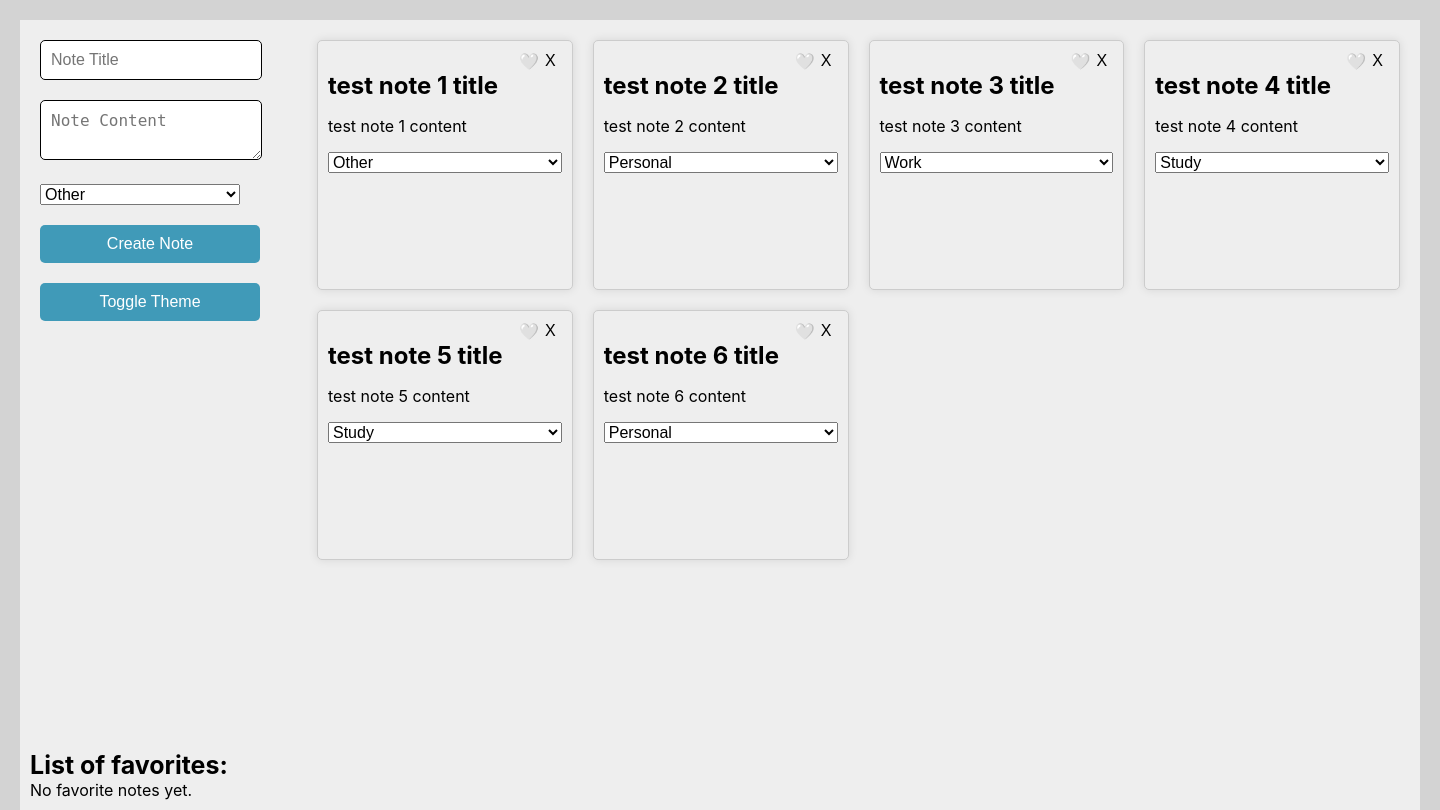
Test: Create StickyNote › displays all created notes
Type "First Note" into the field with placeholder "Note Title" at [151, 60], box [40,40,262,80]
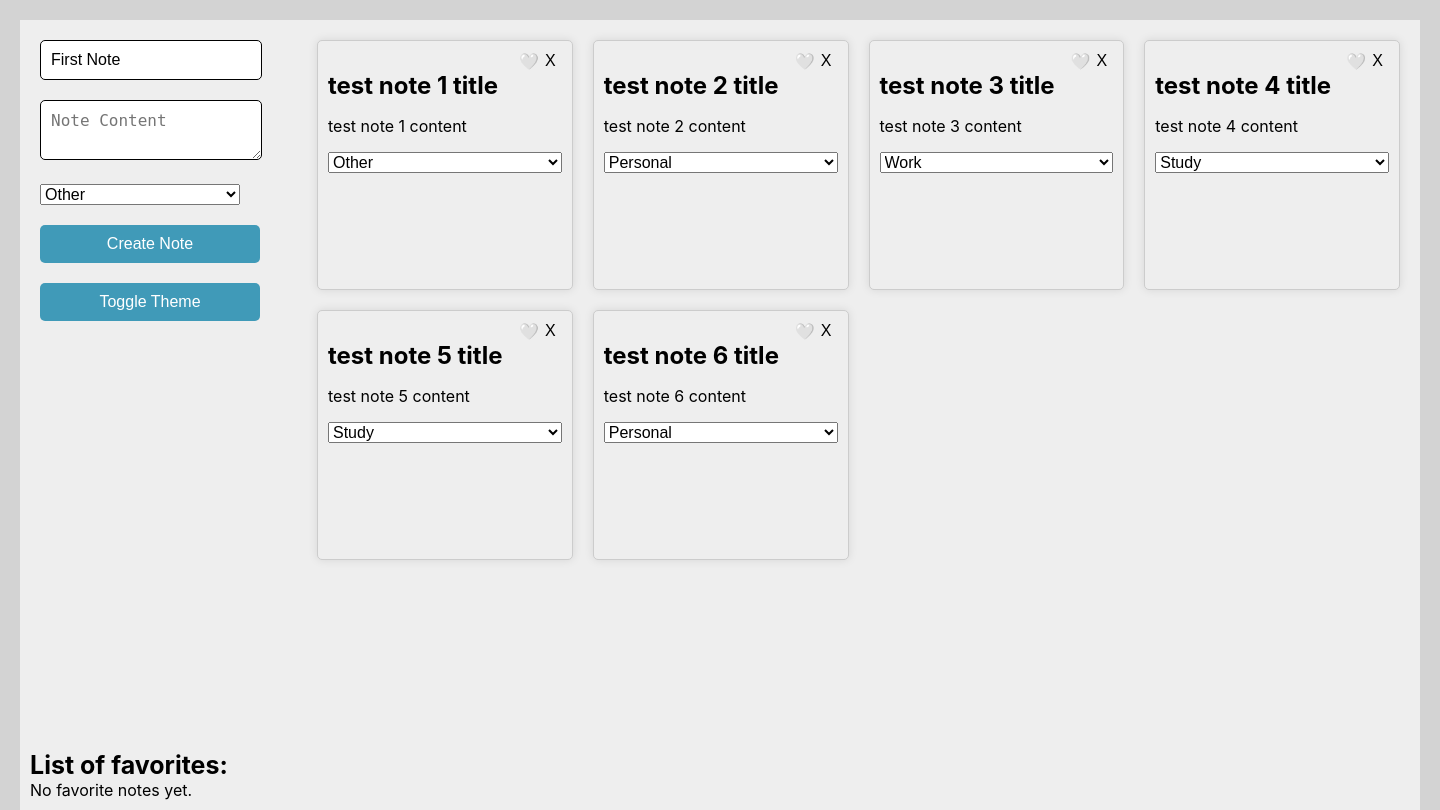
Type "First content" into the text box with placeholder "Note Content" at [151, 130], box [40,100,262,160]
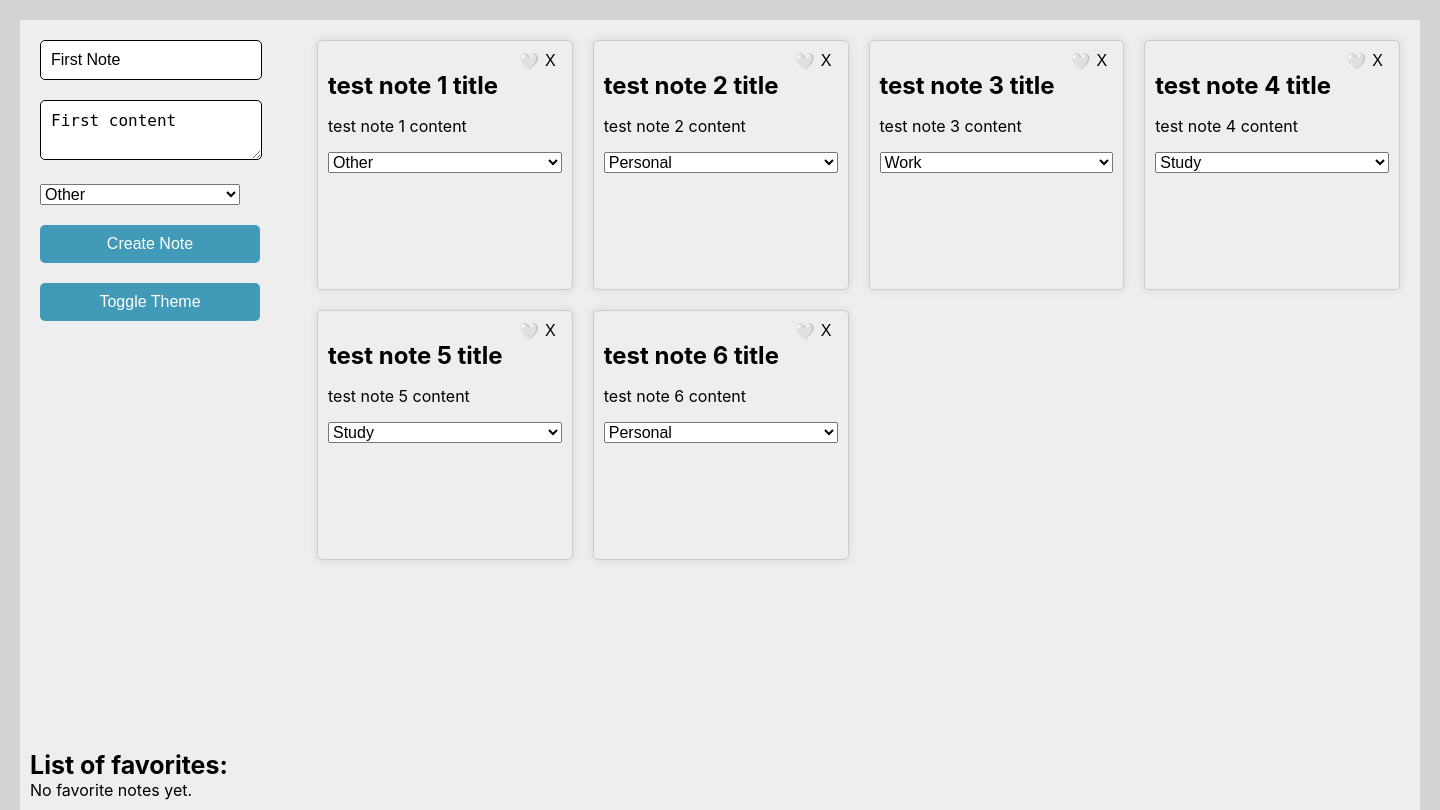
Click the button "Create Note" at [150, 244], box [40,225,260,263]
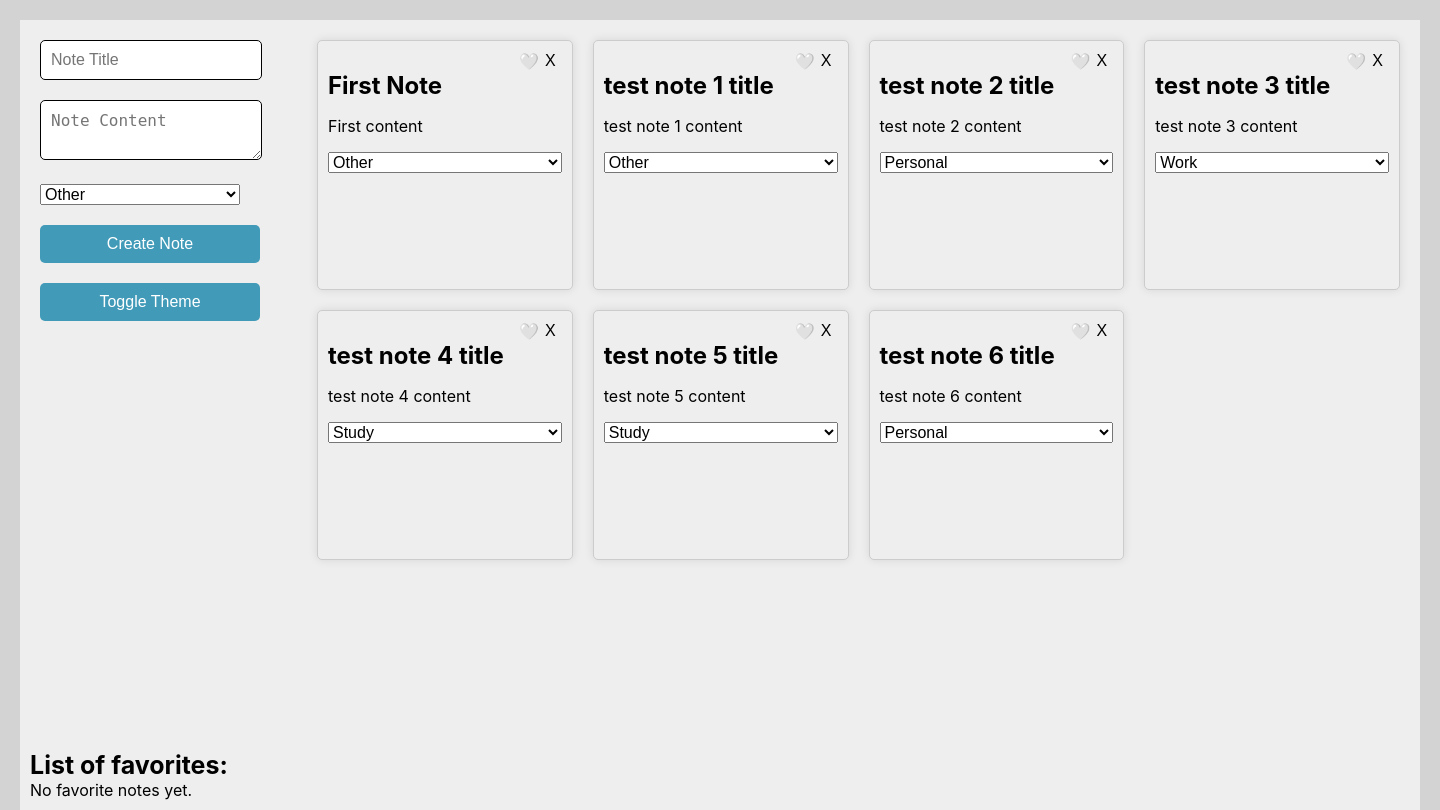
Type "Second Note" into the field with placeholder "Note Title" at [151, 60], box [40,40,262,80]
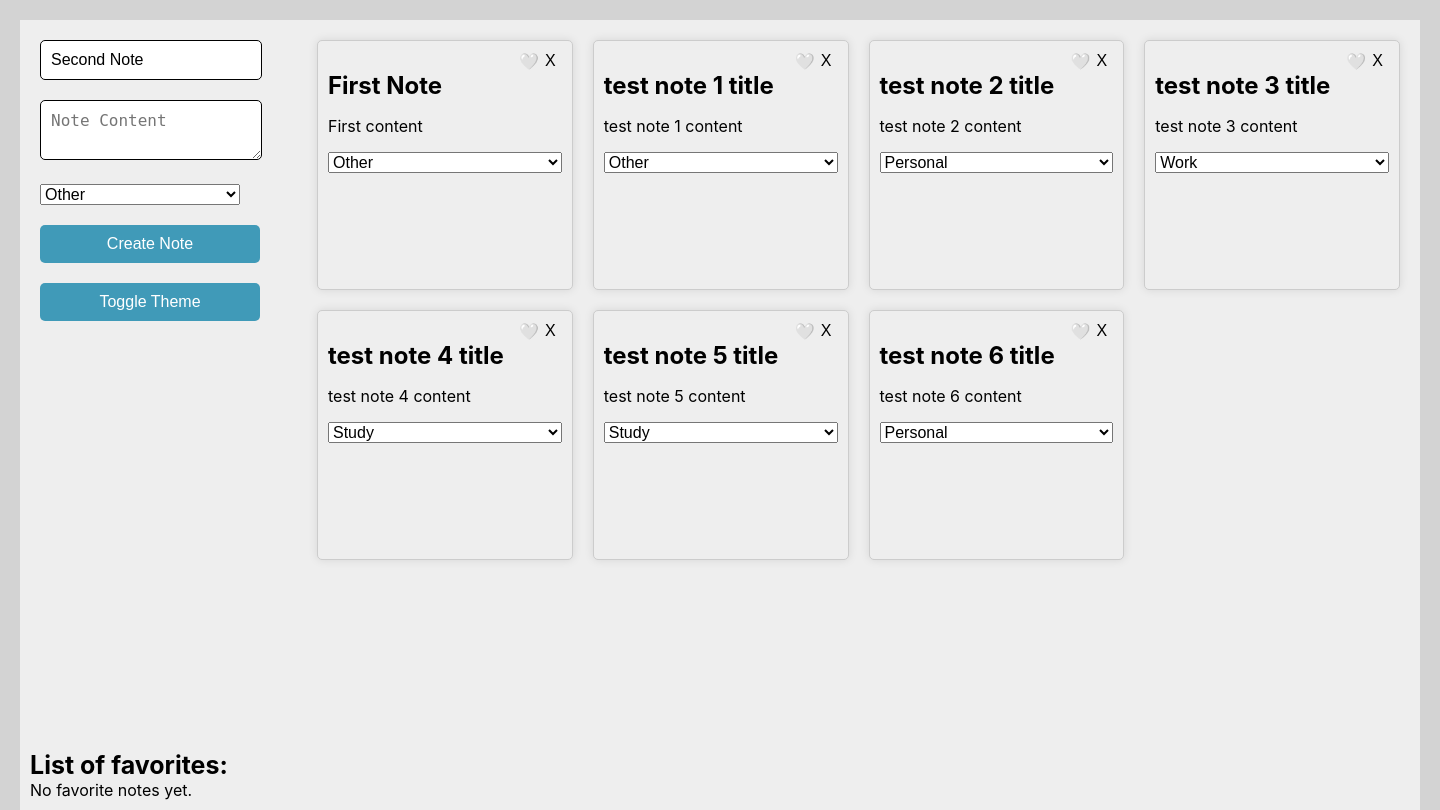
Type "Second content" into the text box with placeholder "Note Content" at [151, 130], box [40,100,262,160]
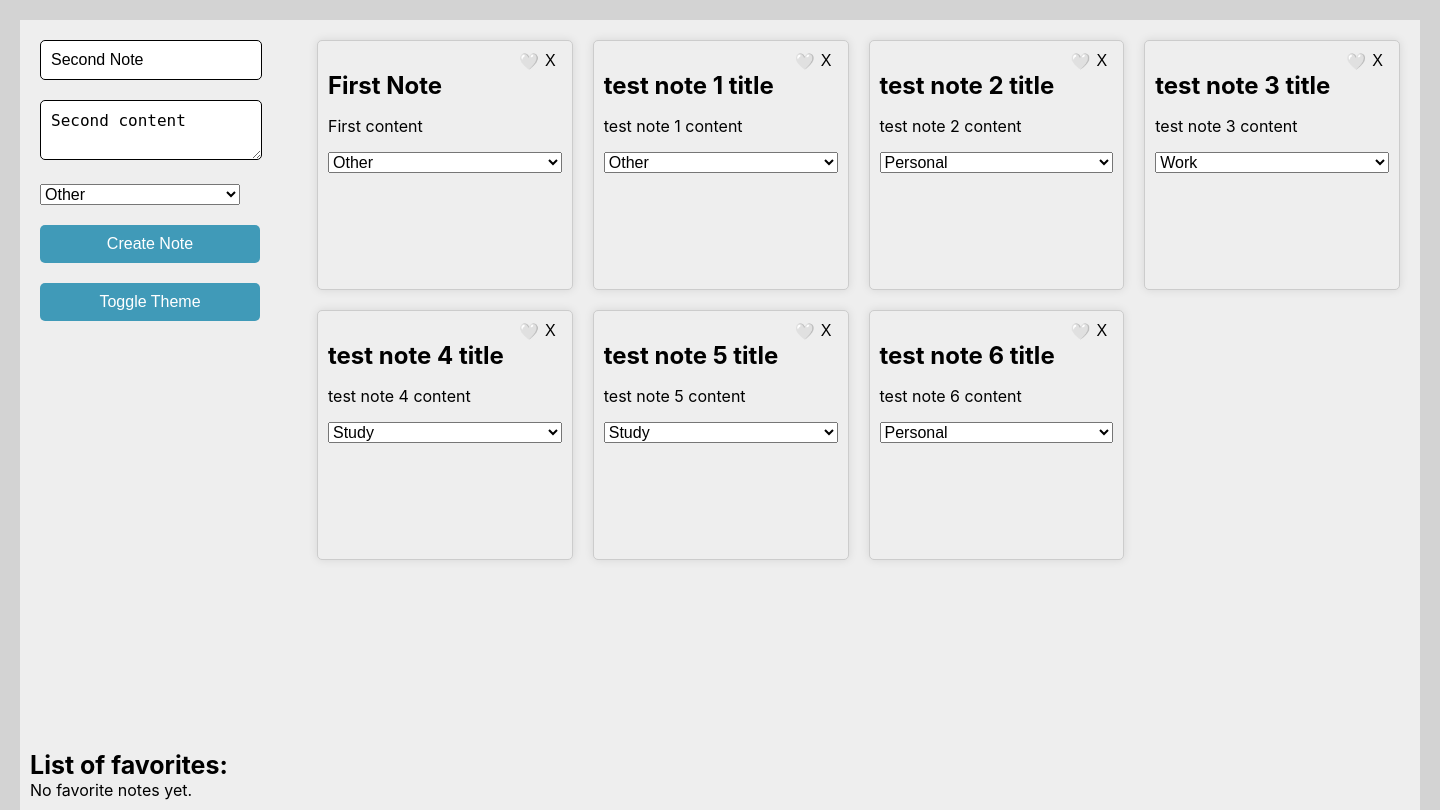
Click the button "Create Note" at [150, 244], box [40,225,260,263]
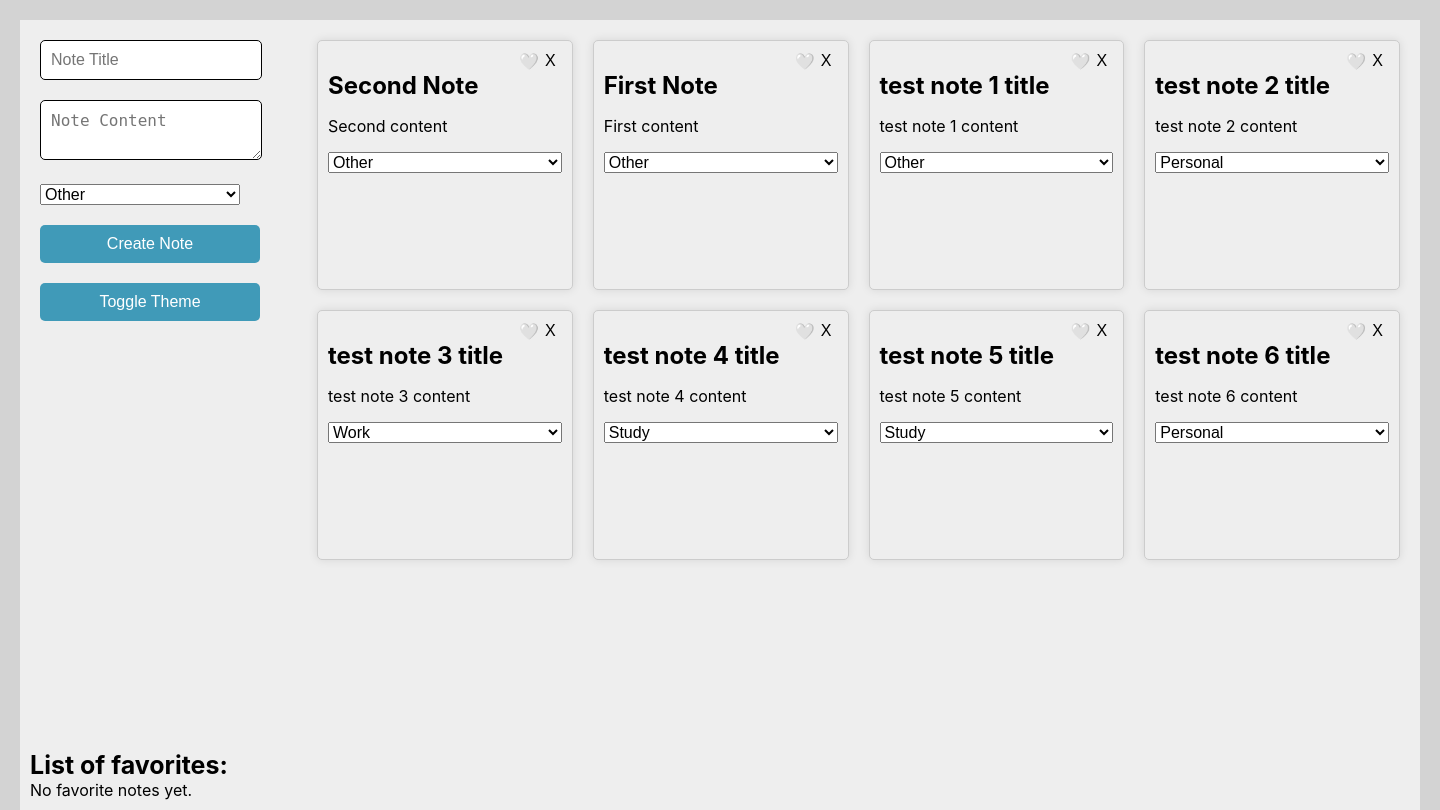
Expected: the heading "First Note" is shown, [604,71,718,100]
Expected: the text box "First content" is shown, [604,116,699,136]
Expected: the heading "Second Note" is shown, [328,71,478,100]
